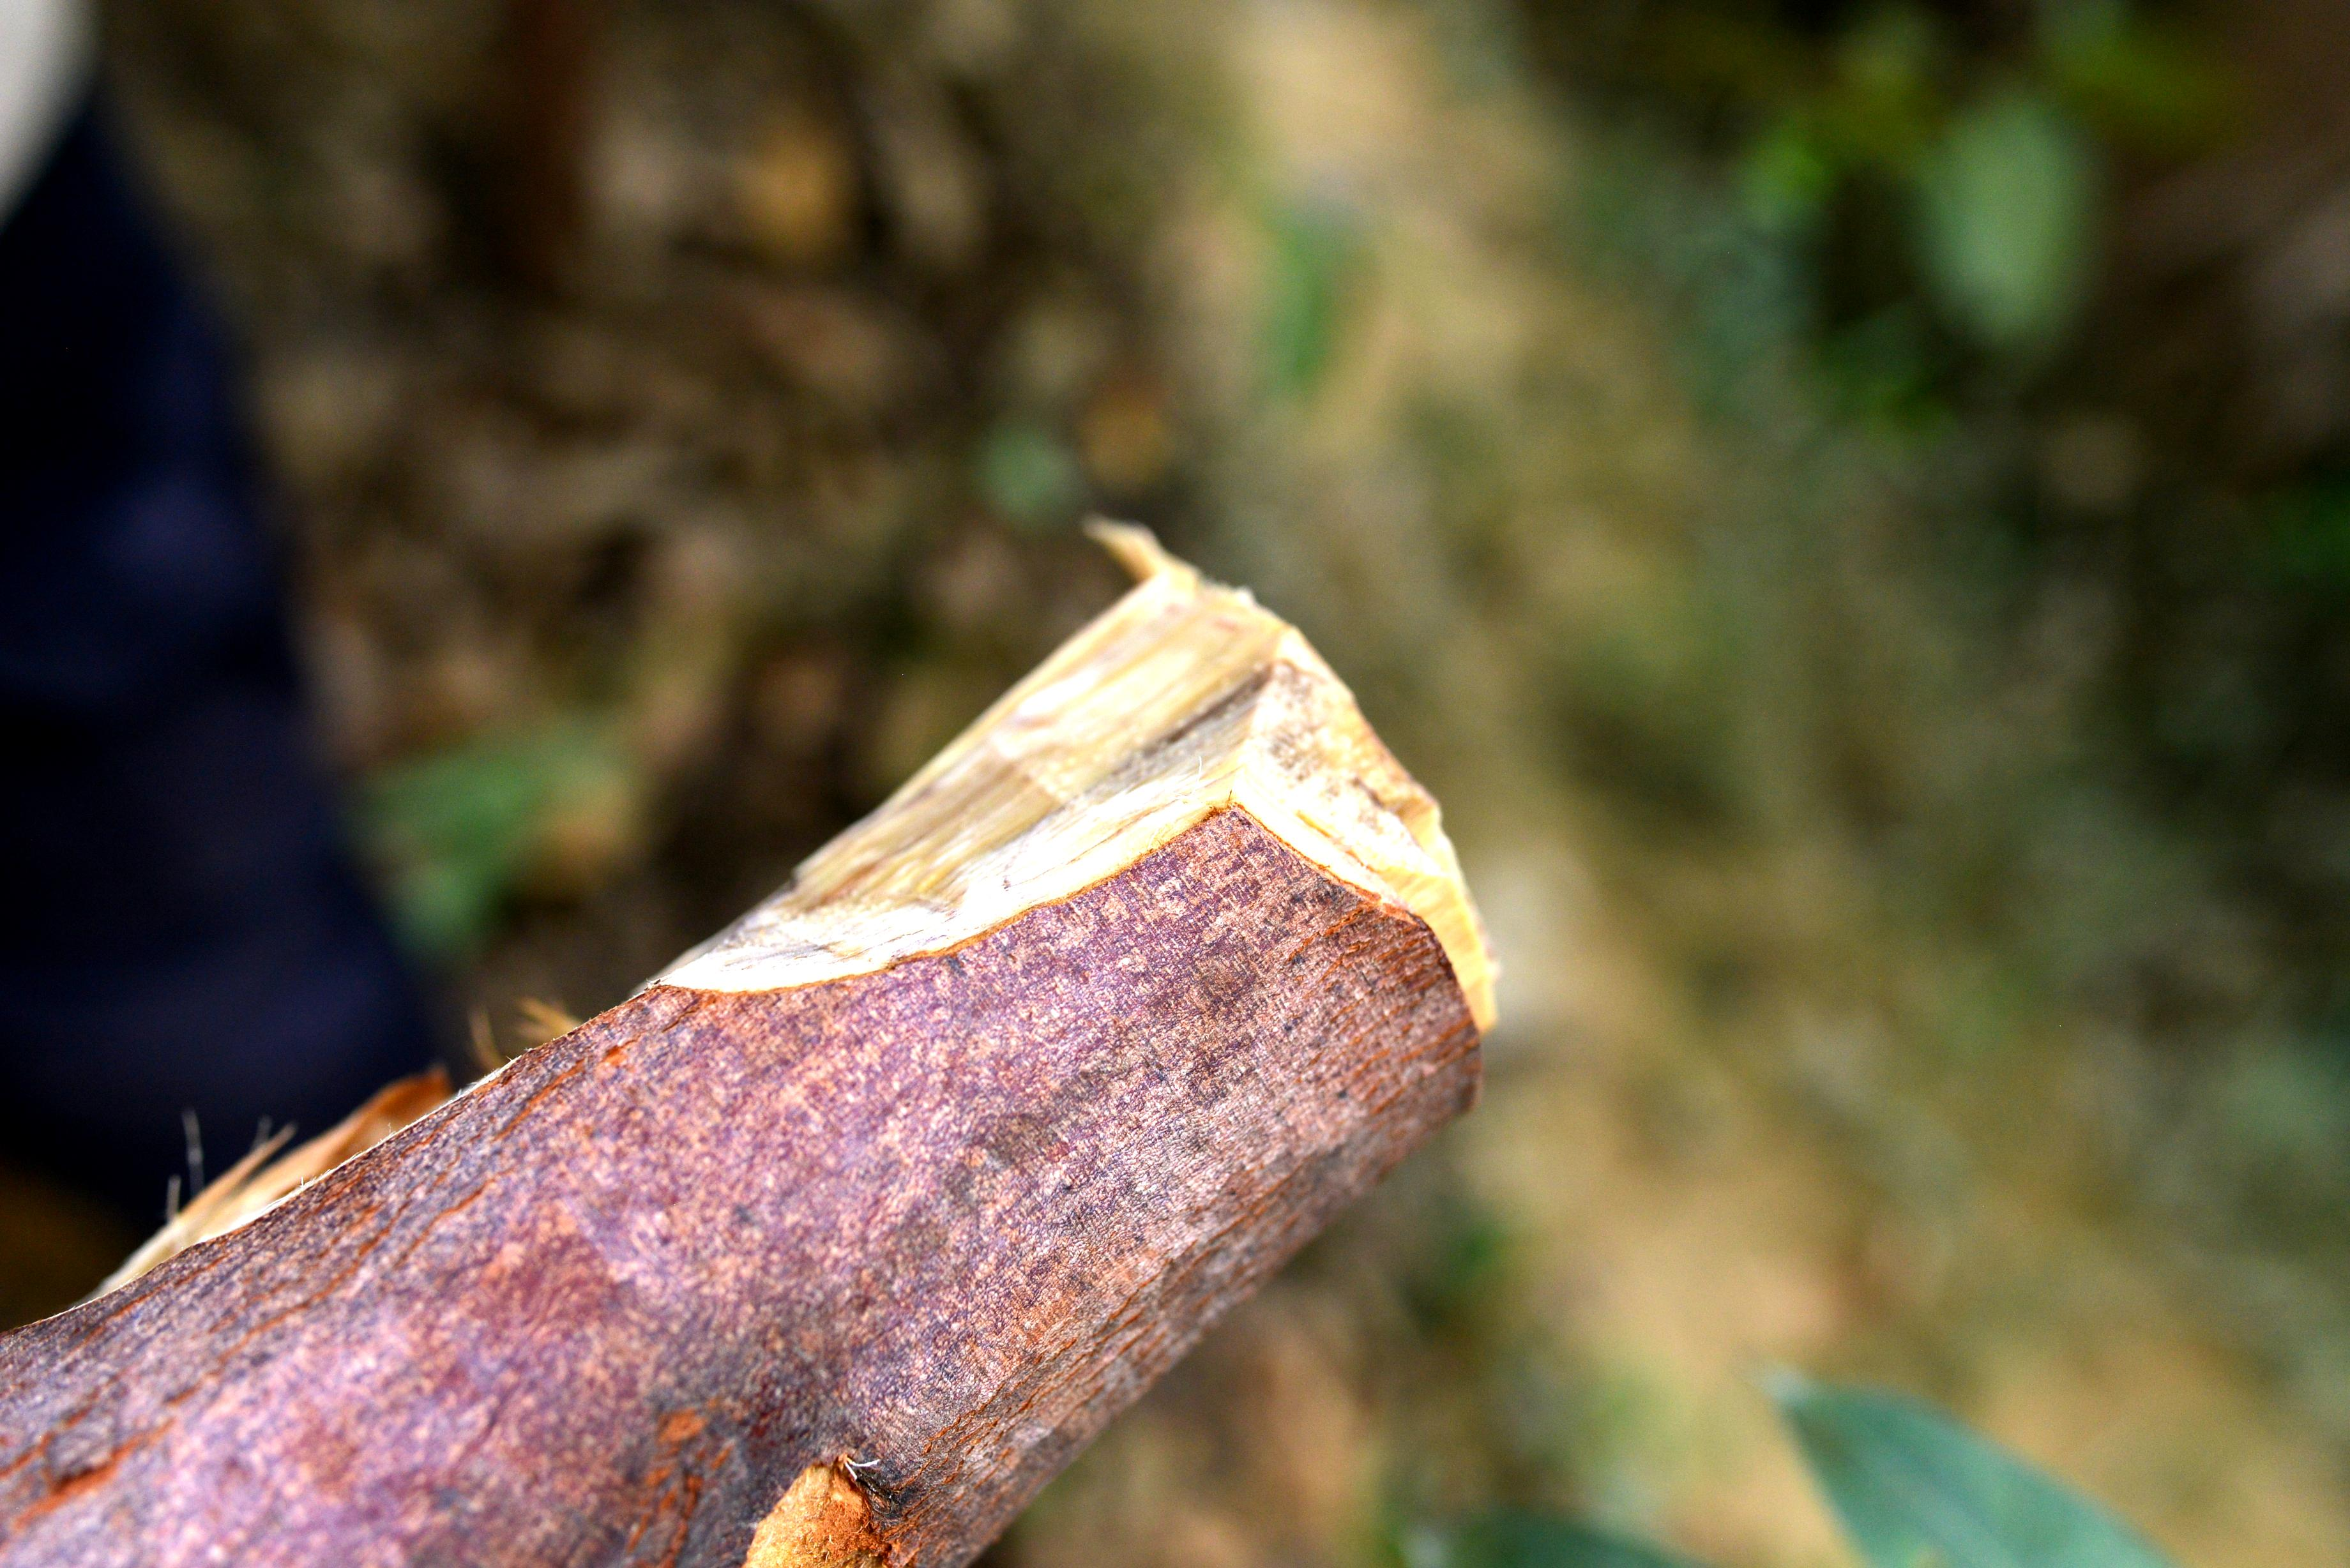Ralstonia: (1041, 616, 1312, 801)
